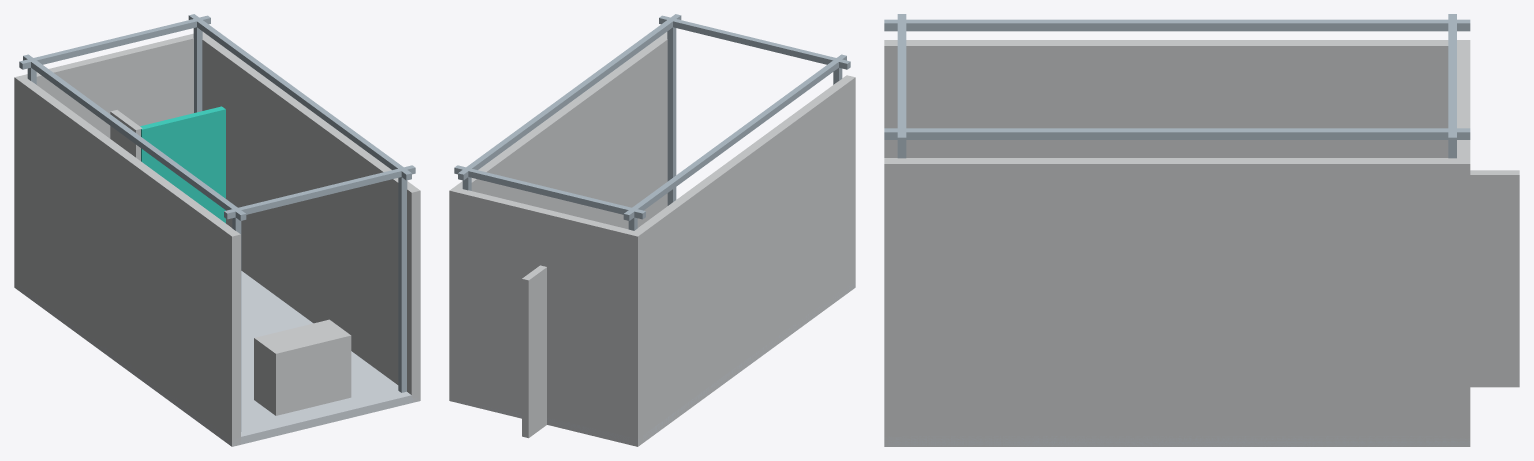
3 views of the same model, side by side, from view 1: azimuth 30°, elevation 25°; view 2: azimuth 150°, elevation 25°; view 3: azimuth 270°, elevation 25° (orthographic). The views are drawn at different scales.
Visible parts, largest first — view 1: Exhibition Booth Concept; view 2: Exhibition Booth Concept; view 3: Exhibition Booth Concept.
Part boxes in pixels (x1,y1,x2,y2): Exhibition Booth Concept: (14,14,420,446); Exhibition Booth Concept: (449,14,855,446); Exhibition Booth Concept: (884,14,1519,446).
Bounding box in the file's own units: 3 × 3.49 × 6.51.
